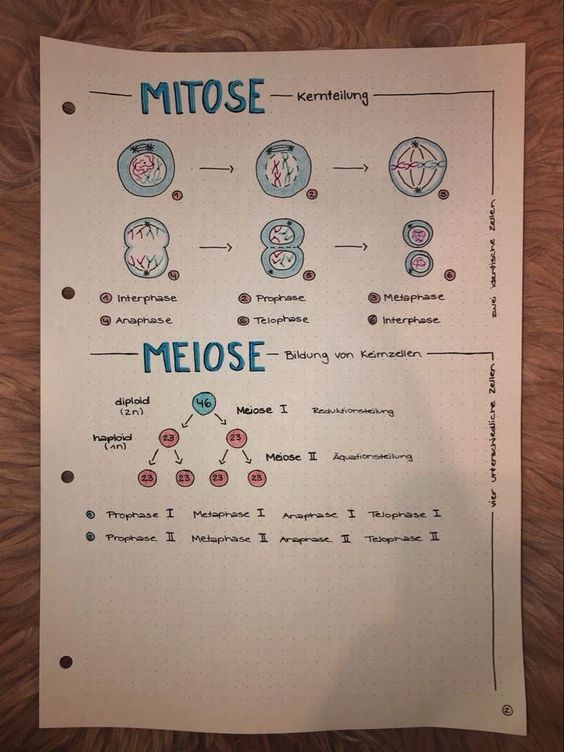page: (41, 54, 521, 729)
